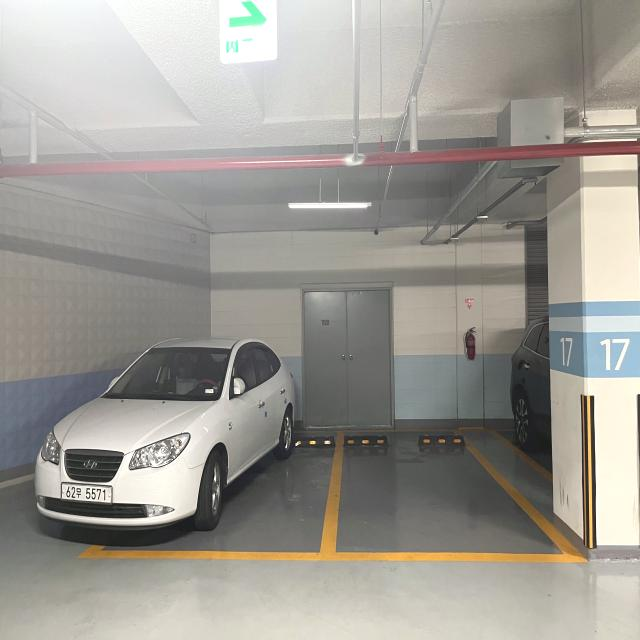car: (32, 320, 328, 570)
free: (320, 426, 590, 565)
